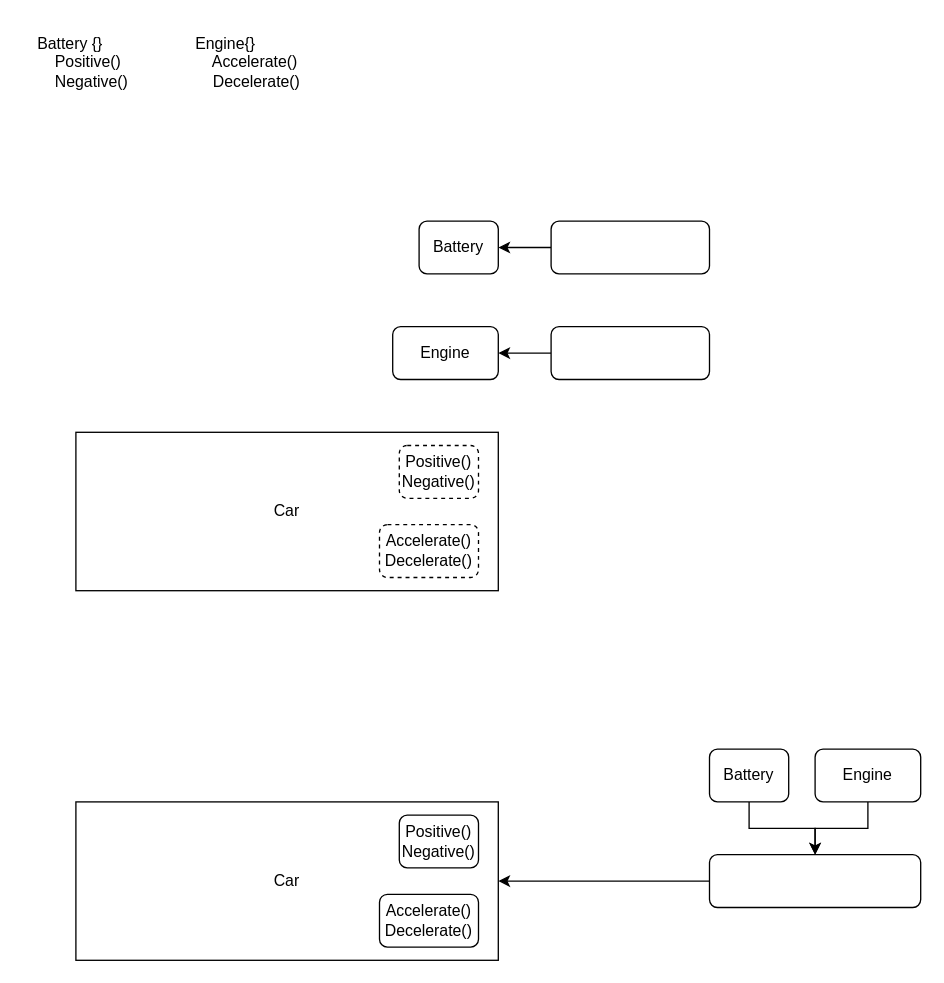
Image size: 944x983. Some labels were removed from this diagram. Each missing label, with the box of its shape:
NewBattery(): (550, 220, 710, 274)
NewCar(Battery, Engine): (708, 853, 921, 908)
NewEngine(): (550, 325, 710, 380)
